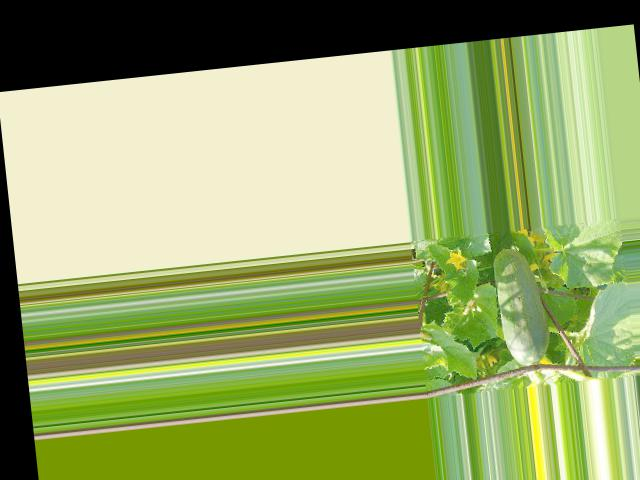cucumber: (491, 244, 554, 367)
